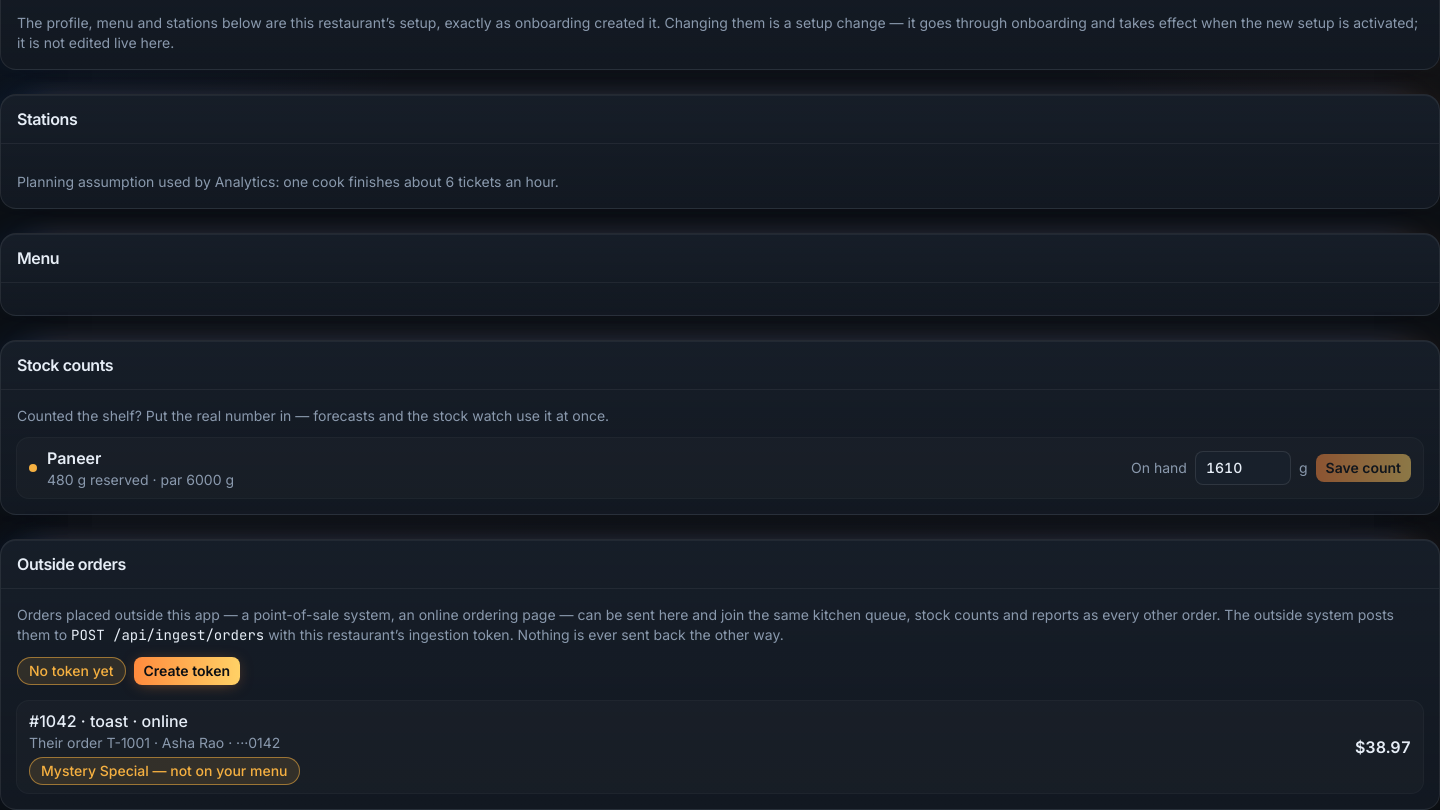
Test: settings shows arrivals and creates the token once
(page scrolled)
Expected: the text "#1042 · toast · online" is shown, [29,711,188,731]
Expected: the text "Their order T-1001 · Asha Rao · ···0142" is shown, [29,733,300,753]
Click the button "Create token".
click(187, 671)  # box [134,657,240,685]
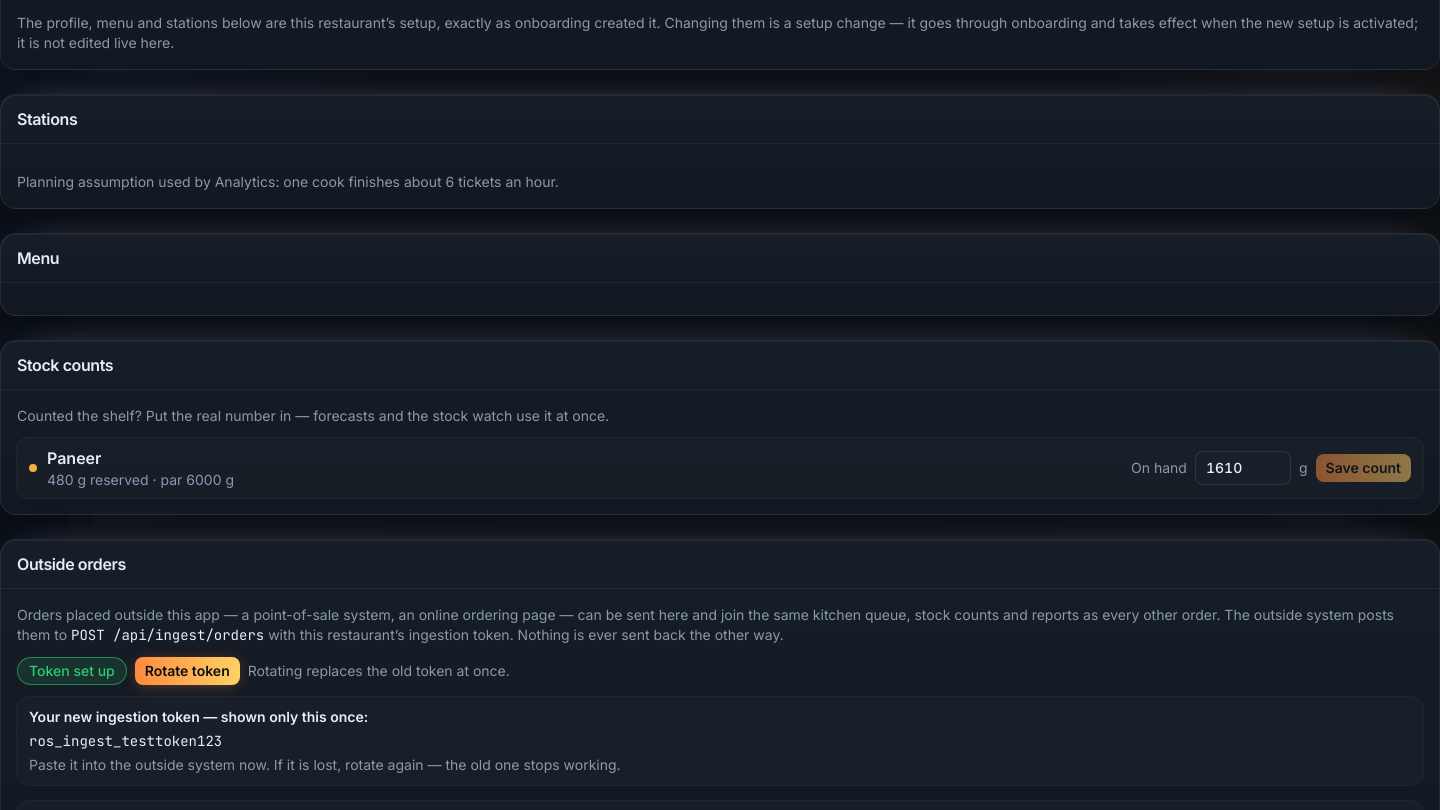
Expected: the text "ros_ingest_testtoken123" is shown, [29,732,222,750]
Expected: the text "Your new ingestion token — shown only this once:" is shown, [29,708,368,725]
Expected: the text "Token set up" is shown, [17,657,127,685]
